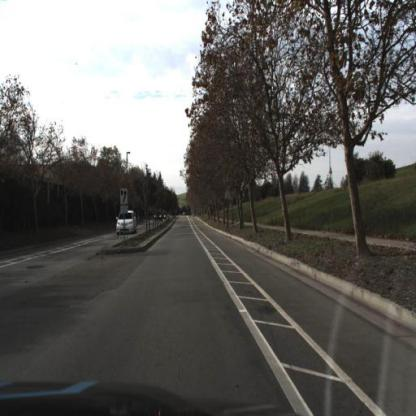car: (116, 209, 135, 235), (152, 211, 162, 221)
